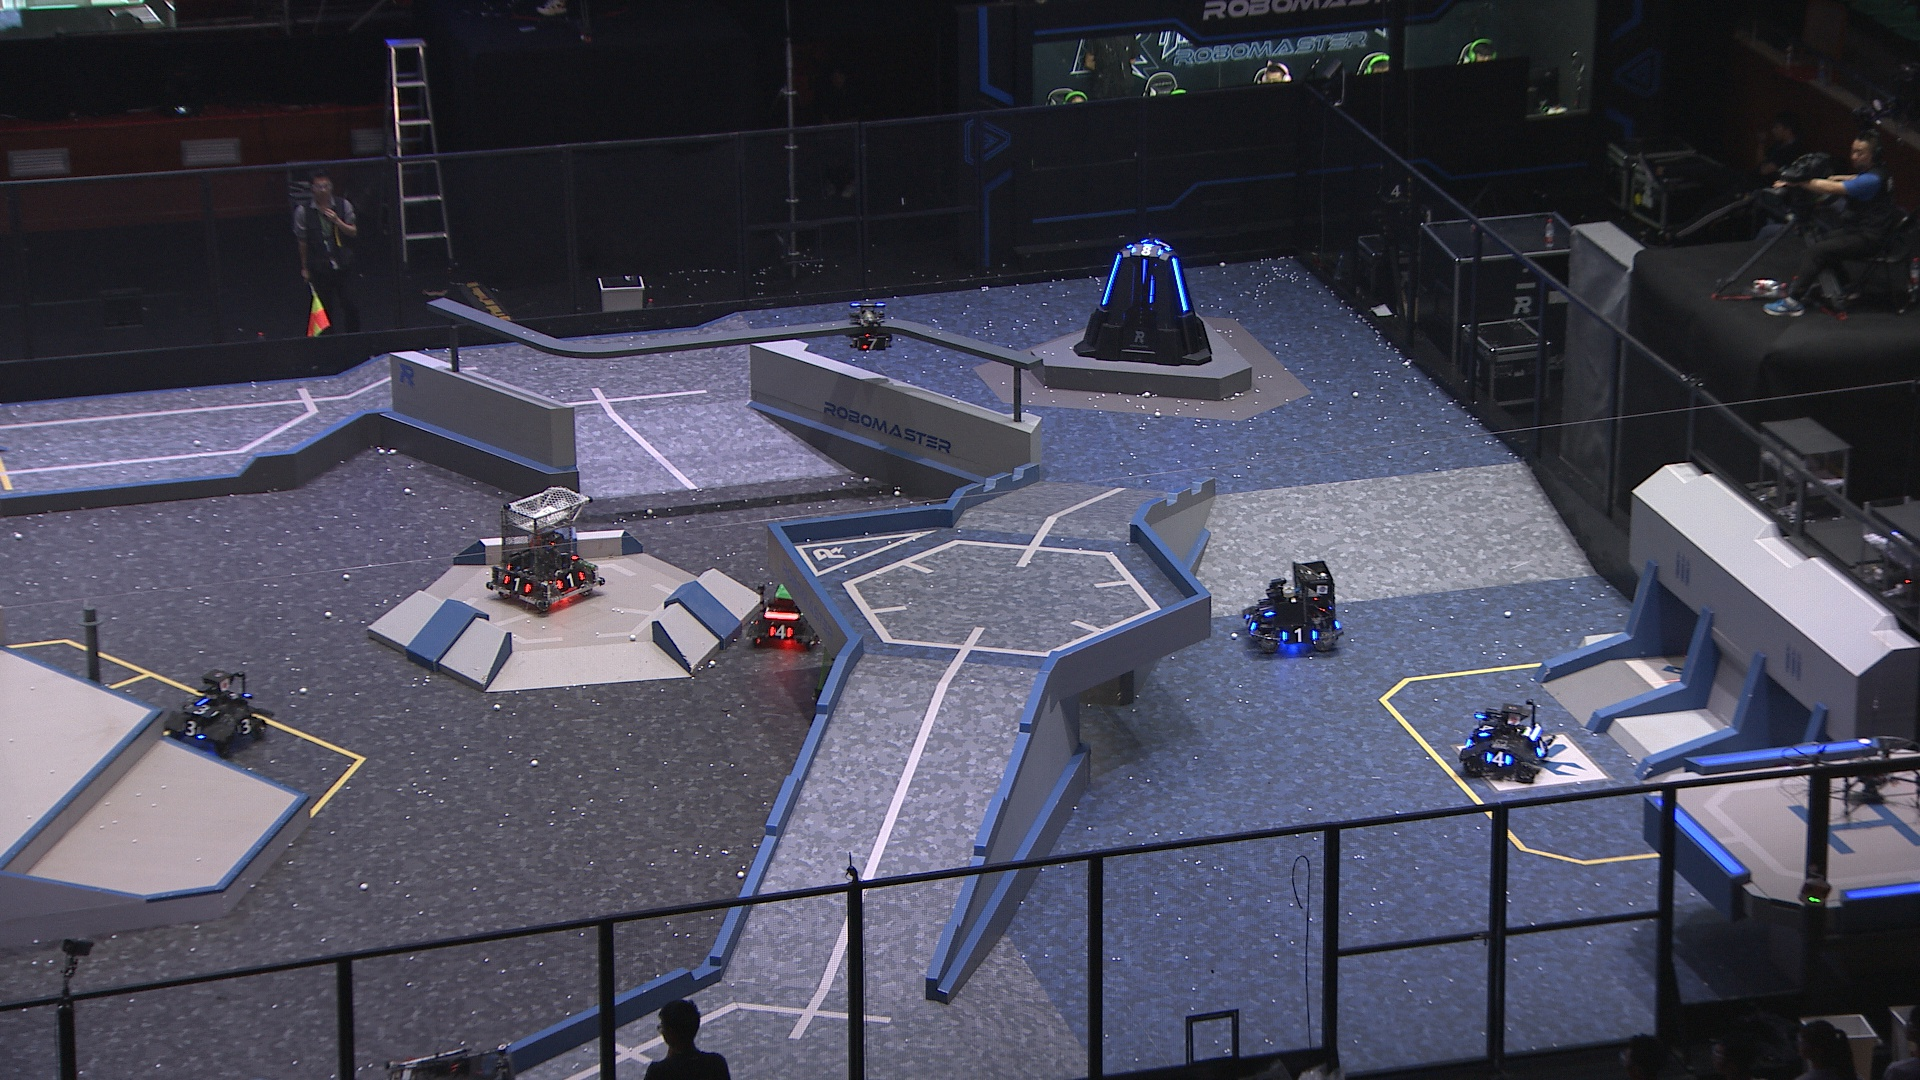armor: (1100, 251, 1124, 310), (1168, 256, 1192, 311), (1278, 624, 1320, 646), (553, 568, 585, 591), (185, 703, 219, 721), (502, 572, 531, 593), (177, 719, 204, 740), (1485, 749, 1513, 769), (769, 622, 795, 642), (856, 338, 891, 352), (1130, 243, 1164, 257), (1255, 600, 1276, 618), (233, 717, 256, 735), (1476, 723, 1495, 740), (1240, 613, 1257, 632), (1534, 740, 1549, 760), (1139, 257, 1149, 286)
base: (1069, 239, 1215, 365)
car: (484, 485, 611, 611), (1237, 559, 1346, 657), (160, 669, 268, 757), (1455, 698, 1556, 782), (378, 1039, 522, 1080), (749, 582, 822, 651)
watcher: (845, 301, 894, 353)
